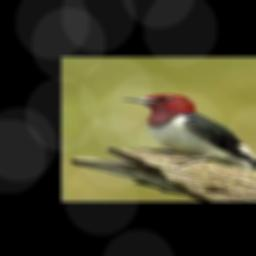Woodpecker: (121, 94, 256, 174)
